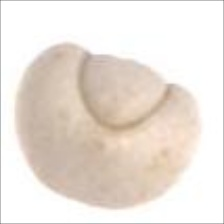L5: (75, 52, 174, 133)
L6: (13, 41, 203, 210)
